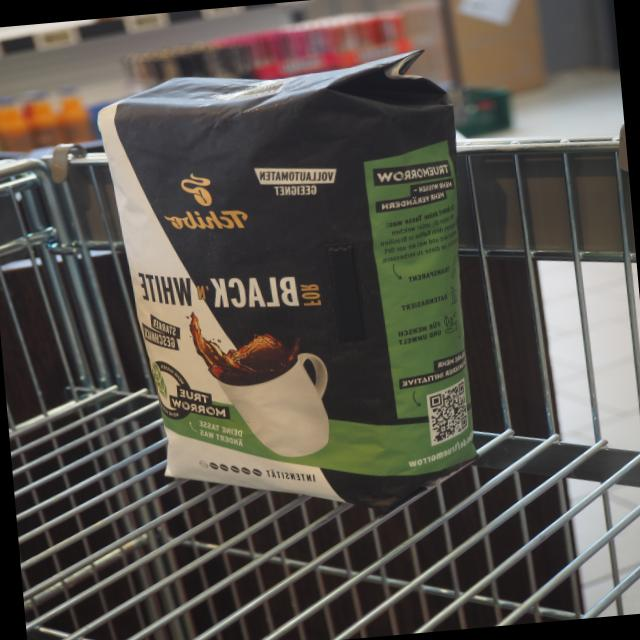BW Bohne: (85, 24, 507, 536)
